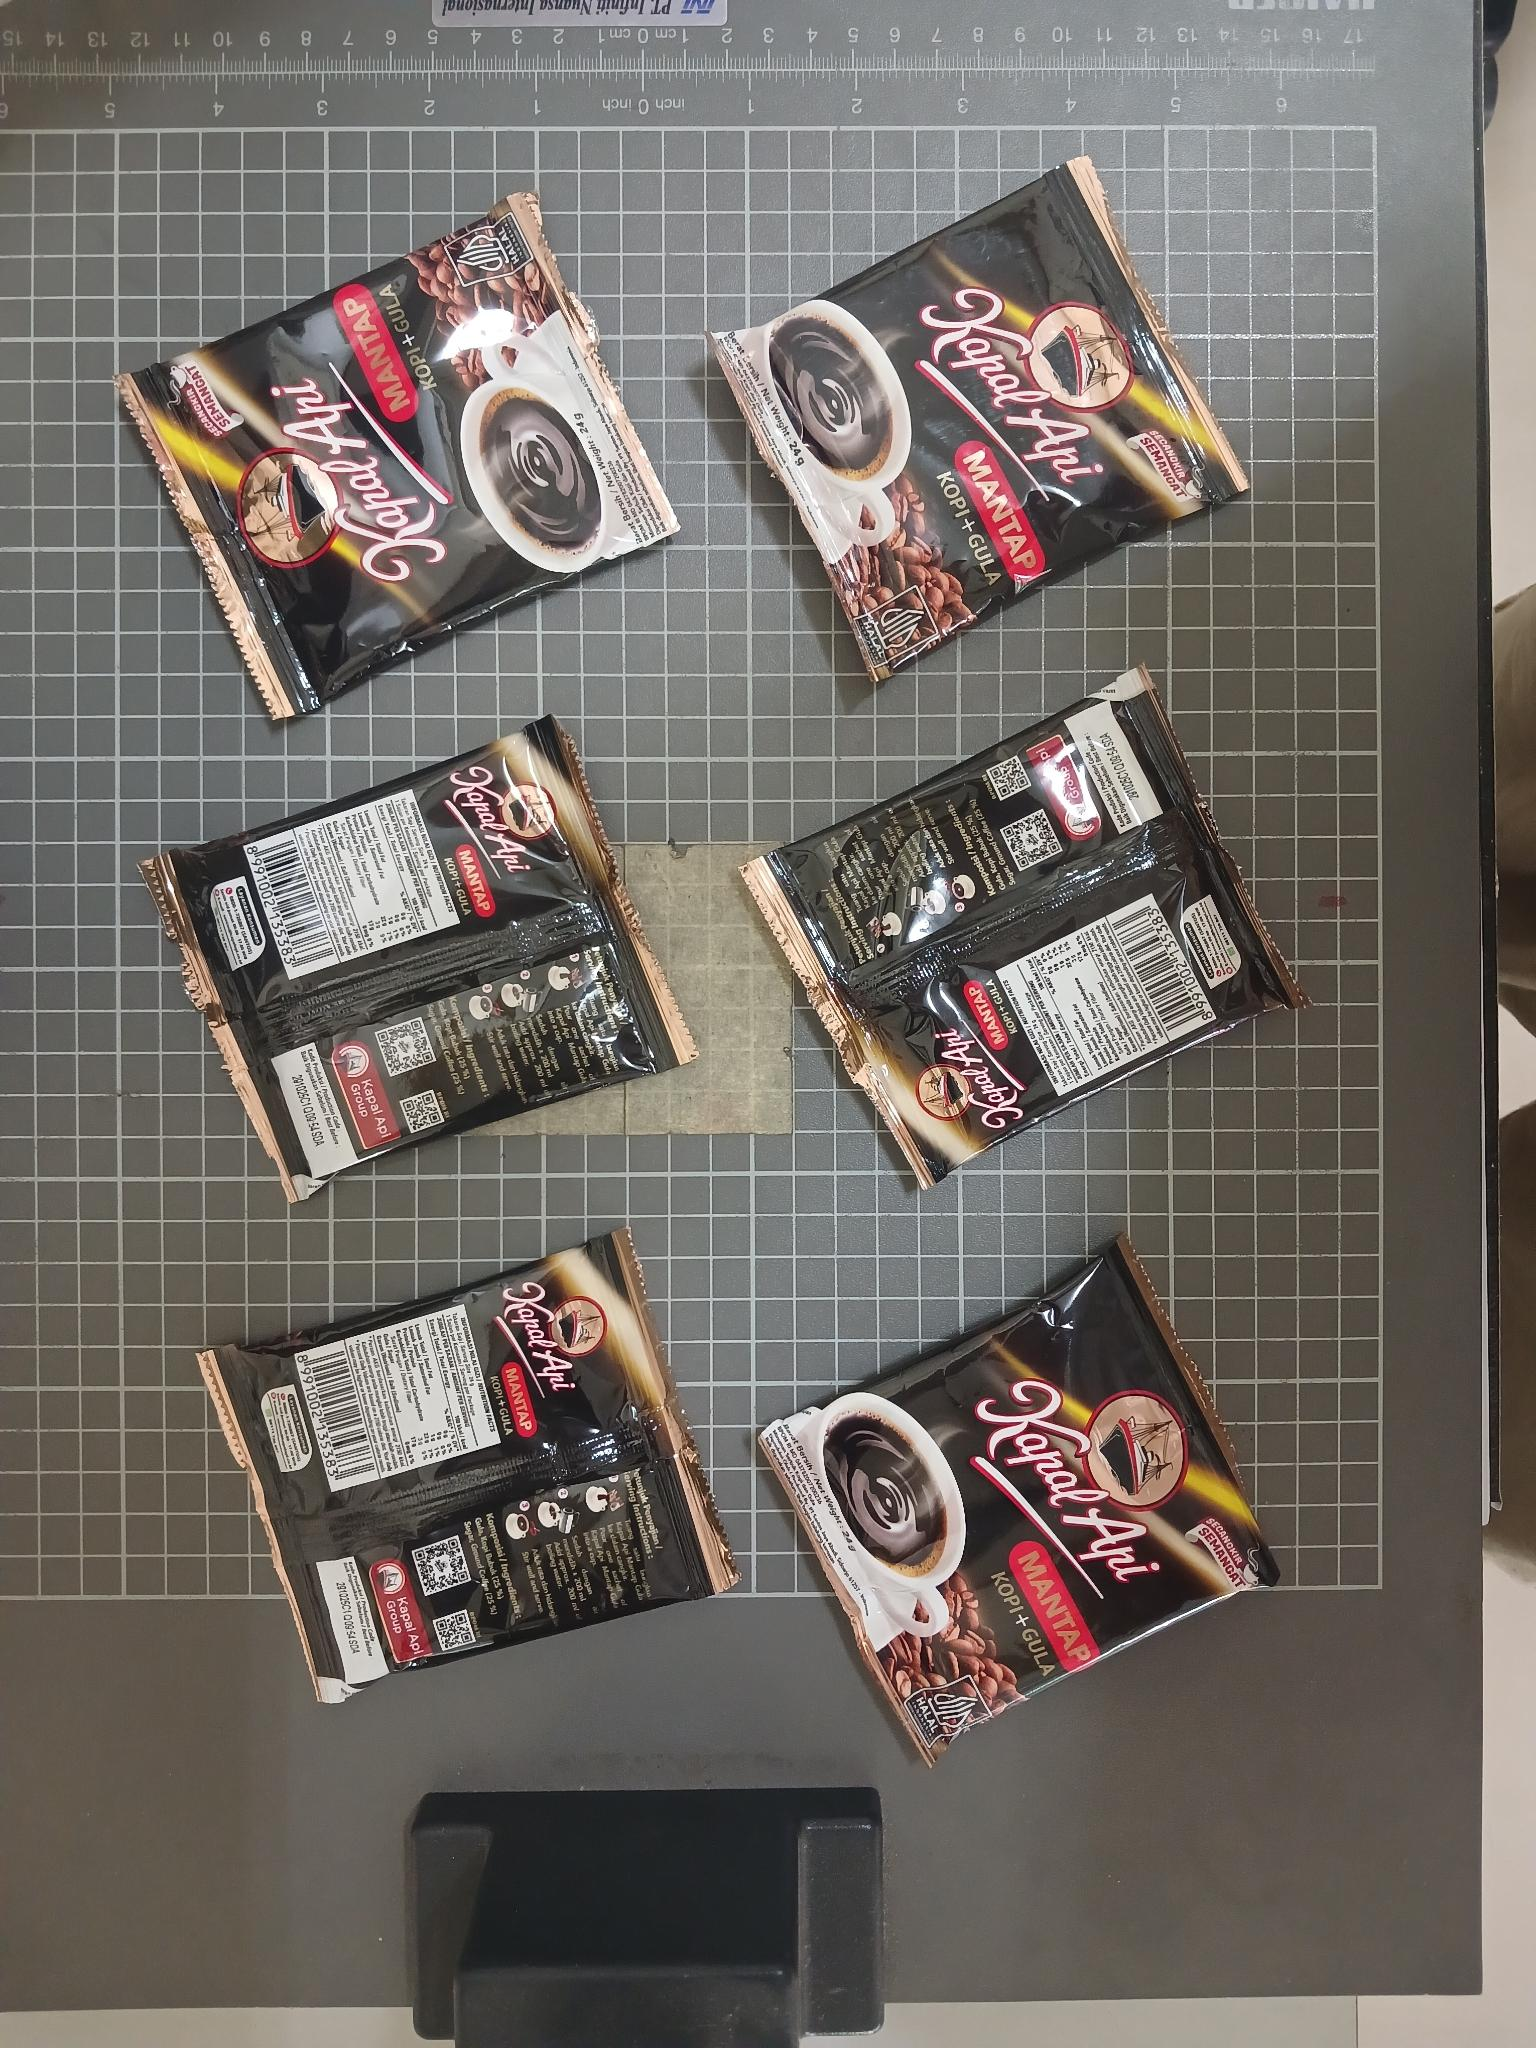back: (734, 660, 1309, 1197), (139, 705, 703, 1208), (198, 1227, 742, 1709)
front: (108, 184, 687, 729), (702, 148, 1257, 687), (750, 1232, 1286, 1771)
